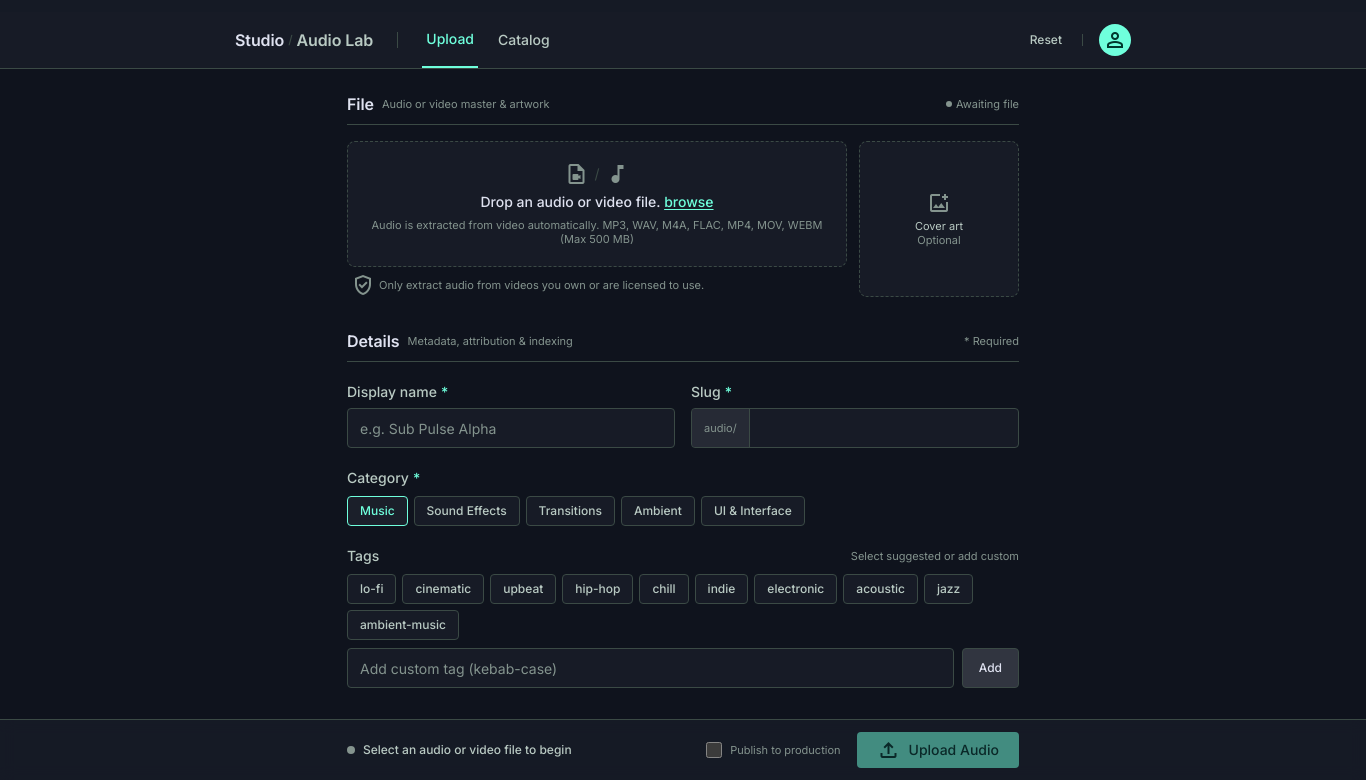
Scenario: Audio Lab — Exact UI & Admin Protection Flow › resets form when reset button is clicked
The image size is (1366, 780).
# First fill in the name field
Type "Test Track" into the field with placeholder "e.g. Sub Pulse Alpha" at point(511, 428), box [347, 408, 675, 448]
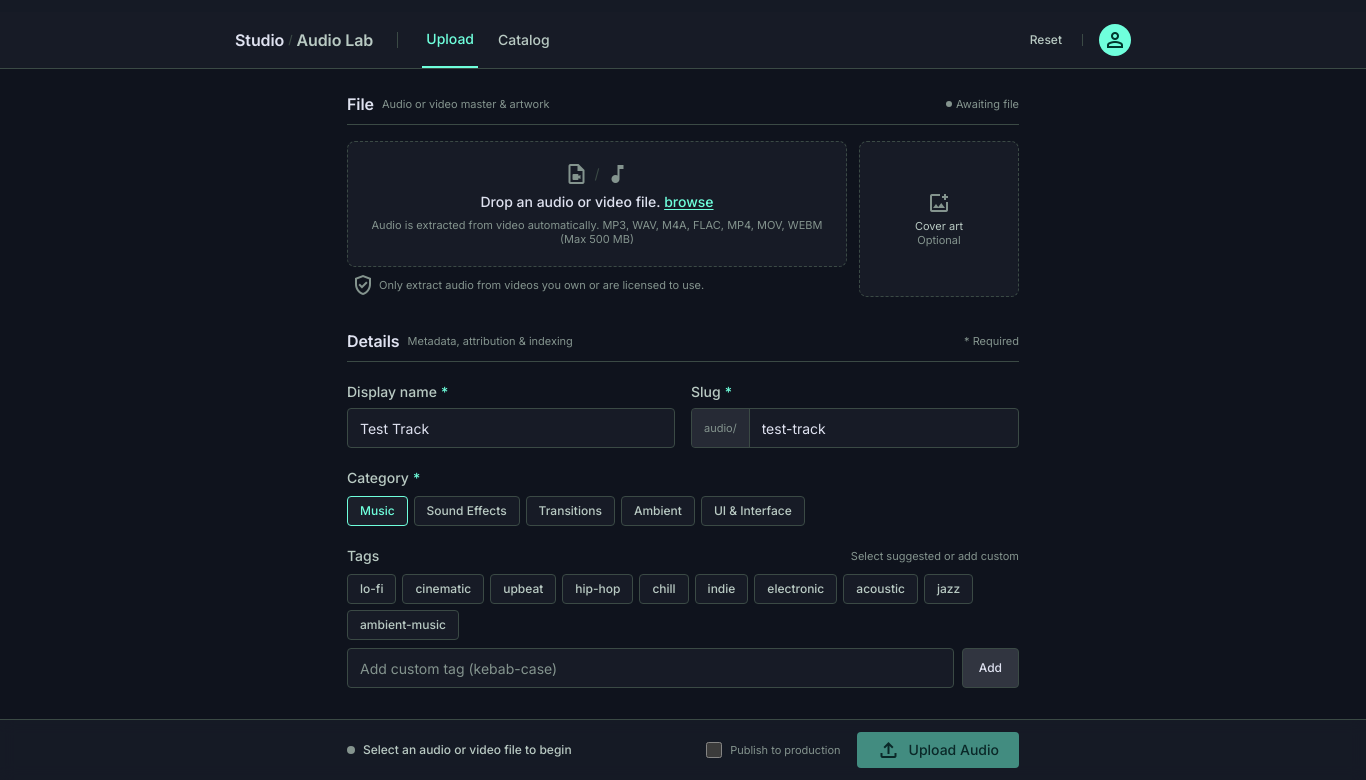
Click the button "Reset" at point(1046, 40), box [1026, 28, 1066, 52]
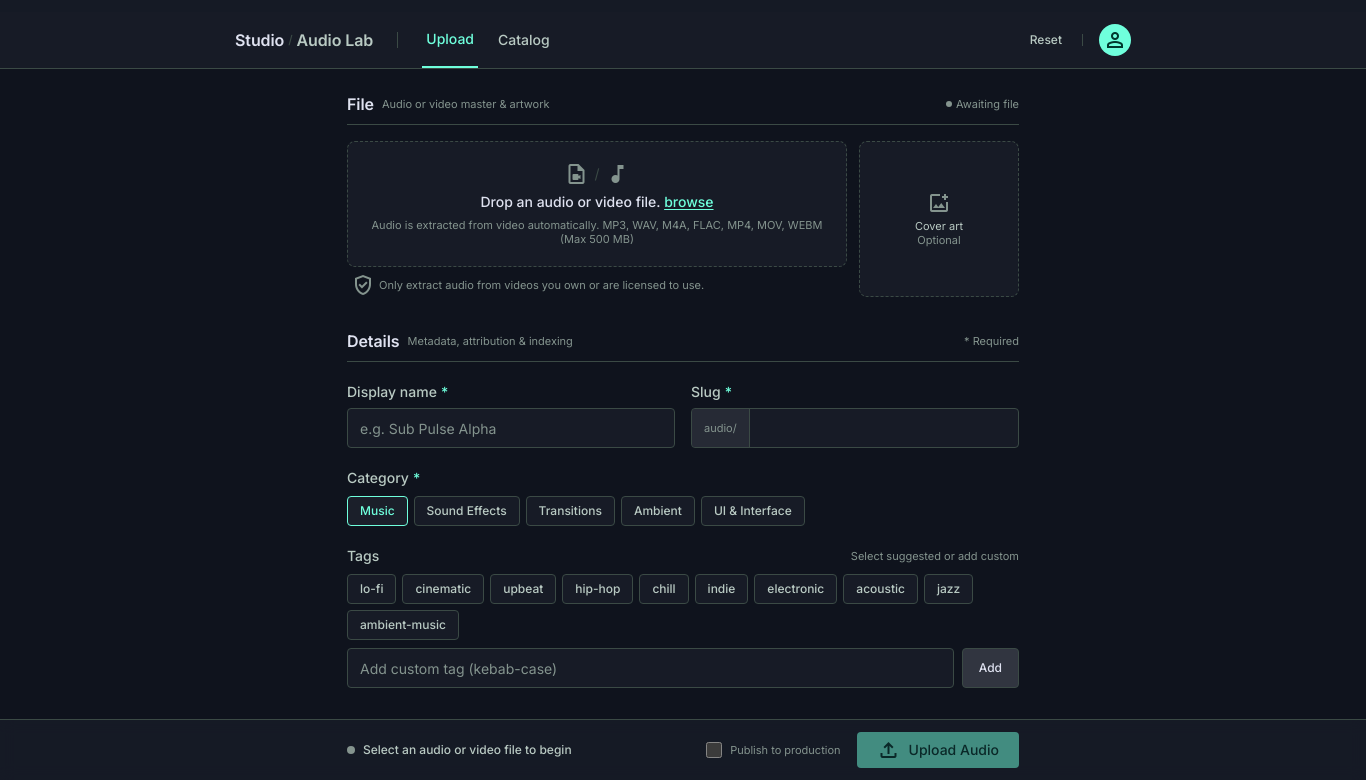
Now the field with placeholder "e.g. Sub Pulse Alpha" is empty, box [347, 408, 675, 448]
